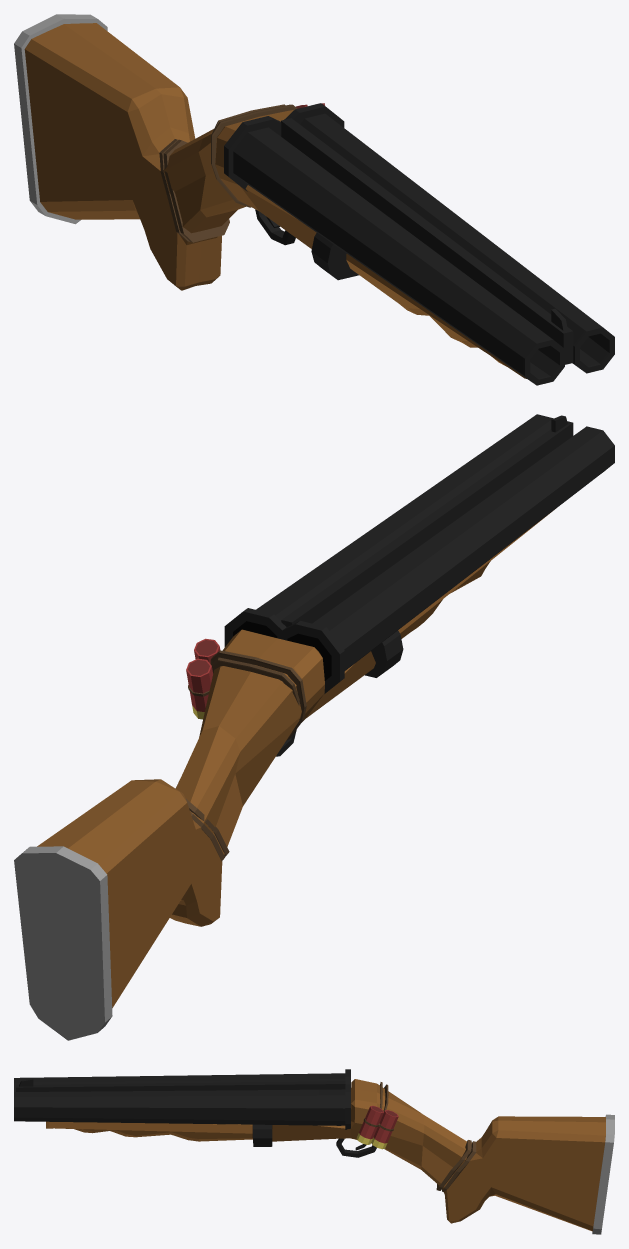
File: ShotgunFix.fbx
3 renders of one model, top to bottom at view 1: azimuth 30°, elevation 25°; view 2: azimuth 150°, elevation 25°; view 3: azimuth 270°, elevation 25°, orthographic. The views are drawn at different scales.
Visible parts, largest first — view 1: Plane.001, Circle; view 2: Plane.001, Circle; view 3: Plane.001, Circle.
Part boxes in pixels (box(x1,y1,x2,y2)): Plane.001: box(14, 14, 526, 378); Circle: box(224, 103, 614, 385); Plane.001: box(14, 511, 552, 1040); Circle: box(224, 414, 614, 693); Plane.001: box(46, 1079, 614, 1234); Circle: box(14, 1069, 350, 1129).
Bounding box in the file's own units: 99.22 × 200 × 700.
